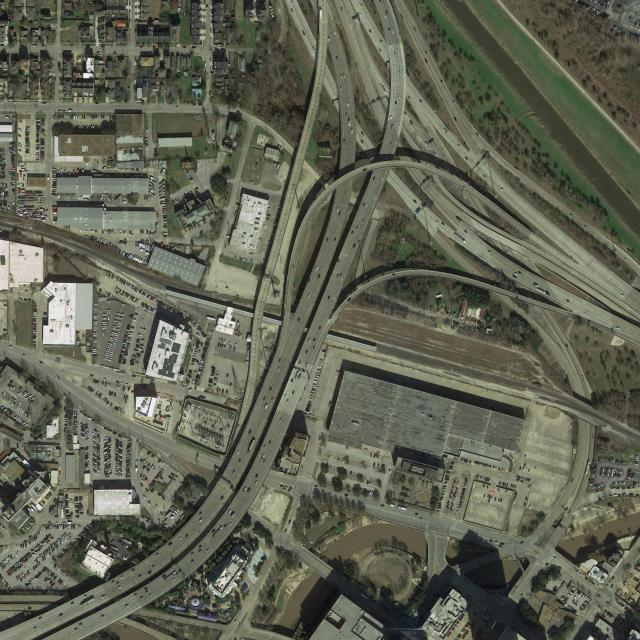large-vehicle: (454, 233, 467, 244), (80, 598, 94, 608), (536, 288, 550, 297), (213, 526, 223, 538), (165, 571, 177, 581), (247, 440, 255, 454), (585, 460, 591, 475), (123, 539, 132, 545), (398, 506, 407, 511), (295, 371, 300, 380), (165, 512, 172, 518), (386, 503, 395, 507), (160, 169, 166, 175), (111, 546, 118, 551), (106, 194, 111, 201), (149, 186, 155, 191), (149, 182, 154, 188), (160, 180, 165, 186), (160, 184, 165, 190), (160, 191, 165, 197), (160, 188, 165, 194), (100, 194, 104, 201), (150, 179, 155, 184), (232, 512, 236, 518), (31, 505, 37, 509), (160, 197, 166, 201), (140, 328, 147, 331), (320, 10, 322, 20), (27, 507, 31, 512), (264, 405, 268, 410), (31, 509, 35, 513), (149, 189, 153, 193), (141, 258, 144, 263), (139, 258, 142, 263), (137, 257, 140, 262), (135, 256, 138, 261), (134, 255, 137, 260), (23, 176, 25, 182), (58, 193, 60, 199), (146, 252, 150, 255), (47, 175, 49, 180), (161, 204, 166, 206), (139, 244, 141, 248), (144, 243, 145, 248), (142, 244, 143, 248)
small-vehicle: (347, 297, 352, 302), (453, 116, 457, 121), (234, 342, 238, 347), (96, 461, 101, 465), (221, 389, 225, 394), (360, 139, 364, 144), (135, 287, 139, 292), (130, 285, 134, 290), (116, 276, 120, 281), (127, 283, 131, 288), (96, 282, 101, 286), (443, 128, 447, 133), (298, 374, 302, 379), (21, 527, 26, 531), (28, 525, 32, 530), (58, 489, 62, 494), (189, 388, 193, 392), (194, 323, 198, 327), (196, 333, 200, 337), (199, 329, 203, 333), (96, 471, 100, 475), (96, 469, 100, 473), (96, 466, 100, 470), (97, 464, 101, 468), (96, 458, 100, 462), (96, 455, 100, 459), (95, 447, 99, 451), (93, 466, 97, 470), (96, 445, 100, 449), (96, 443, 100, 447), (96, 441, 100, 445), (93, 463, 97, 467), (85, 458, 89, 462), (92, 460, 96, 464), (107, 449, 111, 453), (104, 451, 108, 455), (104, 460, 108, 464), (85, 449, 89, 453), (4, 408, 8, 412), (21, 394, 25, 398), (38, 435, 42, 439), (85, 428, 89, 432), (83, 413, 87, 417), (95, 422, 99, 426), (100, 425, 104, 429), (189, 177, 193, 181), (345, 114, 349, 118), (18, 148, 22, 152), (18, 143, 22, 147), (149, 176, 153, 180), (121, 280, 125, 284), (140, 302, 144, 306), (142, 303, 146, 307), (154, 310, 158, 314), (115, 460, 119, 464), (534, 284, 538, 288), (627, 248, 631, 252), (482, 175, 486, 179), (449, 507, 453, 511), (305, 350, 309, 354), (631, 575, 635, 579), (581, 595, 585, 599), (26, 526, 30, 530), (48, 492, 52, 496), (45, 496, 49, 500), (118, 407, 121, 412), (180, 401, 183, 406), (221, 338, 224, 343), (219, 337, 222, 342), (183, 315, 186, 320), (96, 453, 101, 456), (226, 373, 229, 378), (31, 397, 36, 400), (108, 430, 113, 433), (340, 74, 343, 79), (302, 31, 305, 36), (333, 30, 336, 35), (360, 3, 363, 8), (313, 47, 316, 52), (137, 288, 140, 293), (153, 297, 156, 302), (115, 286, 118, 291), (144, 303, 147, 308), (148, 306, 151, 311), (153, 309, 156, 314), (512, 275, 517, 278), (306, 362, 309, 367), (308, 279, 311, 284), (278, 367, 281, 372), (278, 358, 281, 363), (329, 402, 332, 407), (500, 542, 505, 545), (316, 267, 319, 272), (69, 499, 72, 504), (42, 500, 45, 505), (100, 394, 103, 398), (116, 407, 119, 411), (110, 403, 113, 407), (108, 402, 111, 406), (105, 399, 108, 403), (103, 397, 106, 401), (98, 393, 102, 396), (96, 392, 99, 396), (92, 390, 95, 394), (91, 388, 94, 392), (89, 387, 92, 391), (87, 386, 90, 390), (239, 335, 242, 339), (235, 332, 238, 336), (93, 379, 96, 383), (233, 347, 236, 351), (103, 378, 107, 381), (116, 371, 120, 374), (121, 382, 125, 385), (125, 383, 129, 386), (95, 380, 98, 384), (194, 371, 198, 374), (217, 343, 220, 347), (190, 319, 193, 323), (196, 325, 199, 329), (205, 335, 208, 339), (193, 353, 197, 356), (110, 337, 114, 340), (109, 351, 113, 354), (118, 321, 122, 324), (119, 317, 123, 320), (115, 316, 119, 319), (130, 364, 134, 367), (139, 348, 143, 351), (140, 344, 144, 347), (126, 329, 130, 332), (96, 451, 100, 454), (96, 438, 100, 441), (97, 436, 101, 439), (96, 433, 100, 436), (225, 390, 228, 394), (229, 382, 232, 386), (85, 456, 89, 459), (85, 461, 89, 464), (85, 468, 89, 471), (92, 433, 96, 436), (93, 438, 97, 441), (93, 451, 97, 454), (92, 453, 96, 456), (108, 437, 111, 441), (108, 456, 112, 459), (107, 452, 111, 455), (108, 442, 111, 446), (108, 440, 112, 443), (115, 441, 119, 444), (115, 448, 119, 451), (115, 451, 119, 454), (115, 453, 119, 456), (108, 458, 111, 462), (105, 437, 109, 440), (104, 463, 108, 466), (104, 440, 108, 443), (104, 447, 108, 450), (104, 458, 108, 461), (104, 468, 108, 471), (105, 474, 109, 477), (108, 470, 112, 473), (14, 416, 18, 419), (17, 419, 21, 422), (19, 420, 23, 423), (24, 424, 28, 427), (31, 433, 35, 436), (85, 446, 88, 450), (29, 395, 33, 398), (25, 393, 29, 396), (24, 391, 28, 394), (25, 397, 29, 400), (19, 393, 23, 396), (18, 392, 22, 395), (11, 387, 15, 390), (34, 436, 37, 440), (36, 437, 40, 440), (84, 424, 88, 427), (122, 437, 126, 440), (80, 422, 84, 425), (81, 428, 85, 431), (81, 431, 85, 434), (81, 436, 85, 439), (84, 426, 88, 429), (85, 433, 89, 436), (85, 436, 89, 439), (58, 481, 61, 485), (113, 432, 117, 435), (104, 427, 108, 430), (74, 418, 78, 421), (74, 422, 78, 425), (88, 417, 92, 420), (58, 115, 61, 119), (188, 175, 192, 178), (190, 179, 194, 182), (11, 169, 15, 172), (361, 131, 364, 135), (343, 139, 346, 143), (343, 74, 346, 78), (291, 1, 294, 5), (359, 12, 362, 16), (18, 145, 21, 149), (18, 121, 22, 124), (175, 106, 179, 109), (157, 92, 160, 96), (12, 175, 16, 178), (12, 182, 16, 185), (151, 297, 154, 301), (140, 291, 143, 295), (148, 295, 151, 299), (150, 296, 153, 300), (117, 288, 120, 292), (122, 290, 125, 294), (125, 292, 128, 296), (128, 294, 131, 298), (130, 295, 133, 299), (132, 286, 135, 290), (133, 297, 136, 301), (91, 235, 94, 239), (108, 274, 111, 278), (111, 275, 114, 279), (115, 276, 118, 280), (119, 278, 122, 282), (123, 280, 126, 284), (126, 282, 129, 286), (131, 296, 134, 300), (135, 298, 138, 302), (137, 299, 140, 303), (120, 294, 124, 297), (146, 305, 149, 309), (132, 301, 136, 304), (95, 285, 99, 288), (106, 292, 109, 296), (108, 293, 111, 297), (121, 303, 125, 306), (17, 173, 19, 179), (104, 240, 107, 244), (102, 239, 105, 243), (100, 238, 103, 242), (119, 240, 122, 244), (122, 240, 125, 244), (115, 463, 119, 466), (519, 271, 522, 275), (616, 327, 620, 330), (488, 251, 492, 254), (413, 200, 417, 203), (436, 221, 439, 225), (475, 133, 479, 136), (457, 144, 460, 148), (462, 186, 466, 189), (457, 481, 460, 485), (565, 343, 568, 347), (449, 469, 453, 472), (445, 478, 449, 481), (443, 485, 447, 488), (453, 479, 456, 483), (115, 468, 119, 471), (292, 390, 295, 394), (284, 394, 287, 398), (269, 388, 272, 392), (263, 397, 266, 401), (318, 365, 322, 368), (315, 377, 319, 380), (314, 380, 318, 383), (312, 386, 316, 389), (336, 273, 339, 277), (242, 258, 245, 262), (245, 258, 248, 262), (250, 259, 253, 263), (318, 275, 321, 279), (328, 295, 331, 299), (308, 339, 311, 343), (313, 338, 316, 342), (313, 345, 316, 349), (311, 390, 315, 393), (381, 504, 385, 507), (425, 59, 428, 63), (591, 7, 594, 11), (593, 8, 596, 12), (308, 401, 312, 404), (281, 456, 284, 460), (463, 485, 467, 488), (634, 568, 637, 572), (618, 581, 621, 585), (590, 479, 594, 482), (611, 584, 614, 588), (622, 614, 625, 618), (558, 566, 562, 569), (545, 563, 549, 566), (499, 545, 503, 548), (520, 541, 524, 544), (522, 467, 525, 471), (560, 597, 564, 600), (575, 589, 578, 593), (579, 593, 583, 596), (498, 498, 501, 502), (460, 495, 464, 498), (635, 459, 639, 462), (337, 259, 340, 263), (39, 530, 42, 534), (146, 517, 149, 521), (146, 519, 150, 522), (160, 512, 163, 516), (125, 545, 128, 549), (121, 543, 125, 546), (47, 494, 50, 498), (33, 537, 36, 541), (54, 556, 57, 560), (51, 549, 54, 553), (65, 546, 69, 549), (77, 536, 81, 539), (74, 539, 78, 542), (144, 516, 147, 520), (238, 332, 240, 337), (123, 386, 125, 391), (109, 391, 111, 396), (210, 375, 215, 377), (192, 380, 194, 385), (200, 398, 205, 400), (217, 387, 219, 392), (129, 316, 134, 318), (17, 444, 19, 449), (11, 167, 16, 169), (144, 138, 149, 140), (109, 115, 111, 120), (86, 162, 88, 167), (347, 102, 349, 107), (351, 129, 353, 134), (336, 56, 338, 61), (13, 288, 15, 293), (20, 173, 22, 178), (308, 294, 310, 299), (621, 481, 623, 486), (73, 524, 75, 529), (64, 498, 69, 500), (16, 553, 18, 558), (114, 406, 117, 409), (106, 401, 109, 404), (40, 361, 43, 364), (198, 370, 201, 373), (187, 378, 190, 381), (195, 348, 198, 351), (158, 405, 161, 408), (23, 354, 26, 357), (112, 331, 115, 334), (110, 339, 113, 342), (113, 340, 116, 343), (113, 342, 116, 345), (132, 356, 135, 359), (135, 313, 138, 316), (133, 319, 136, 322), (131, 326, 134, 329), (97, 431, 100, 434), (94, 472, 97, 475), (94, 436, 97, 439), (85, 463, 88, 466), (85, 466, 88, 469), (94, 431, 97, 434), (94, 441, 97, 444), (93, 446, 96, 449), (94, 449, 97, 452), (93, 456, 96, 459), (93, 458, 96, 461), (108, 454, 111, 457), (108, 447, 111, 450), (108, 445, 111, 448), (116, 439, 119, 442), (108, 461, 111, 464), (116, 444, 119, 447), (116, 446, 119, 449), (104, 454, 107, 457), (108, 466, 111, 469), (105, 472, 108, 475), (106, 476, 109, 479), (109, 472, 112, 475), (108, 468, 111, 471), (85, 454, 88, 457), (1, 406, 4, 409), (16, 417, 19, 420), (21, 421, 24, 424), (23, 422, 26, 425), (9, 386, 12, 389), (81, 426, 84, 429), (85, 431, 88, 434), (86, 437, 89, 440), (118, 434, 121, 437), (465, 157, 468, 160), (18, 134, 21, 137), (19, 129, 22, 132), (139, 290, 142, 293), (142, 292, 145, 295), (106, 273, 109, 276), (56, 376, 59, 379), (116, 291, 119, 294), (12, 186, 15, 189), (115, 465, 118, 468), (584, 225, 587, 228), (621, 294, 624, 297), (567, 300, 570, 303), (464, 230, 467, 233), (515, 273, 518, 276), (461, 316, 464, 319), (468, 318, 471, 321), (472, 319, 475, 322), (620, 29, 623, 32), (616, 27, 619, 30), (607, 2, 610, 5), (441, 148, 444, 151), (500, 188, 503, 191), (608, 16, 611, 19), (447, 503, 450, 506), (446, 506, 449, 509), (456, 484, 459, 487), (455, 487, 458, 490), (465, 478, 468, 481), (465, 480, 468, 483), (449, 495, 452, 498), (442, 491, 445, 494), (446, 475, 449, 478), (438, 504, 441, 507), (598, 11, 601, 14), (291, 379, 294, 382), (279, 468, 282, 471), (415, 513, 418, 516), (379, 49, 382, 52), (281, 468, 284, 471), (576, 570, 579, 573), (579, 573, 582, 576), (630, 574, 633, 577), (633, 577, 636, 580), (598, 594, 601, 597), (457, 637, 460, 640), (461, 631, 464, 634), (470, 619, 473, 622), (613, 616, 616, 619), (623, 606, 626, 609), (606, 584, 609, 587), (584, 602, 587, 605), (521, 594, 524, 597), (562, 595, 565, 598), (570, 592, 573, 595), (575, 597, 578, 600), (564, 600, 567, 603), (567, 606, 570, 609), (569, 607, 572, 610), (561, 621, 564, 624), (460, 501, 463, 504), (457, 510, 460, 513), (635, 463, 638, 466), (35, 536, 38, 539), (61, 551, 64, 554), (30, 540, 33, 543), (112, 404, 114, 408), (120, 373, 124, 375), (126, 387, 128, 391), (116, 385, 118, 389), (123, 398, 125, 402), (105, 382, 107, 386), (102, 381, 104, 385), (111, 392, 113, 396), (230, 346, 232, 350), (215, 375, 219, 377), (209, 383, 213, 385), (199, 365, 203, 367), (179, 400, 181, 404), (176, 400, 178, 404), (14, 371, 16, 375), (17, 374, 19, 378), (229, 341, 231, 345), (192, 320, 194, 324), (220, 343, 222, 347), (201, 343, 203, 347), (93, 339, 97, 341), (116, 329, 120, 331), (112, 328, 116, 330), (114, 337, 118, 339), (114, 339, 118, 341), (109, 354, 113, 356), (120, 314, 124, 316), (126, 346, 130, 348), (142, 371, 146, 373), (135, 360, 139, 362), (132, 355, 136, 357), (123, 339, 127, 341), (123, 341, 127, 343), (121, 348, 125, 350), (123, 357, 127, 359), (125, 348, 129, 350), (135, 347, 139, 349), (108, 343, 112, 345), (105, 354, 109, 356), (138, 334, 142, 336), (128, 338, 132, 340), (19, 375, 21, 379), (27, 381, 29, 385), (32, 385, 34, 389), (115, 458, 119, 460), (104, 456, 108, 458), (104, 466, 108, 468), (104, 470, 108, 472), (17, 406, 19, 410), (20, 408, 22, 412), (22, 409, 24, 413), (27, 413, 29, 417), (19, 402, 21, 406), (33, 385, 35, 389), (40, 390, 42, 394), (42, 391, 44, 395), (8, 399, 10, 403), (43, 434, 45, 438), (59, 465, 61, 469), (22, 446, 24, 450), (24, 447, 26, 451), (26, 449, 28, 453), (27, 451, 29, 455), (64, 394, 66, 398), (73, 412, 77, 414), (73, 414, 77, 416), (93, 341, 97, 343), (93, 335, 97, 337), (64, 115, 66, 119), (36, 155, 40, 157), (36, 153, 40, 155), (36, 149, 40, 151), (36, 147, 40, 149), (36, 145, 40, 147), (62, 114, 64, 118), (66, 115, 68, 119), (68, 115, 70, 119), (78, 115, 80, 119), (36, 157, 40, 159), (36, 123, 40, 125), (41, 155, 45, 157), (40, 149, 44, 151), (40, 151, 44, 153), (87, 115, 89, 119), (217, 195, 219, 199), (233, 212, 235, 216), (11, 150, 15, 152), (12, 152, 16, 154), (144, 141, 148, 143), (9, 172, 11, 176), (144, 144, 148, 146), (93, 115, 95, 119), (96, 125, 98, 129), (107, 115, 109, 119), (90, 125, 92, 129), (81, 125, 83, 129), (102, 167, 106, 169), (340, 87, 342, 91), (113, 52, 117, 54), (341, 7, 343, 11), (328, 37, 330, 41), (26, 127, 30, 129), (26, 129, 30, 131), (36, 119, 40, 121), (178, 8, 180, 12), (280, 145, 282, 149), (69, 110, 73, 112), (58, 110, 62, 112), (13, 102, 17, 104), (12, 180, 16, 182), (144, 292, 146, 296), (147, 294, 149, 298), (119, 289, 121, 293), (127, 293, 129, 297), (146, 229, 148, 233), (93, 236, 95, 240), (69, 172, 71, 176), (12, 185, 16, 187), (94, 303, 98, 305), (93, 329, 97, 331), (102, 297, 104, 301), (142, 229, 144, 233), (140, 229, 142, 233), (135, 242, 137, 246), (52, 178, 56, 180), (53, 182, 57, 184), (52, 188, 56, 190), (64, 169, 66, 173), (52, 174, 56, 176), (83, 199, 87, 201), (80, 230, 84, 232), (6, 187, 8, 191), (4, 187, 6, 191), (52, 169, 56, 171), (0, 196, 2, 200), (24, 171, 28, 173), (157, 213, 159, 217), (163, 209, 167, 211), (163, 213, 167, 215), (163, 217, 167, 219), (163, 227, 167, 229), (114, 229, 116, 233), (125, 240, 127, 244), (97, 238, 99, 242), (506, 250, 508, 254), (629, 15, 631, 19), (619, 28, 621, 32), (628, 32, 630, 36), (637, 23, 639, 27), (633, 17, 635, 21), (604, 4, 606, 8), (631, 32, 633, 36), (453, 100, 455, 104), (582, 376, 584, 380), (448, 500, 450, 504), (451, 502, 453, 506), (451, 489, 453, 493), (442, 489, 446, 491), (452, 487, 454, 491), (439, 500, 443, 502), (437, 508, 441, 510), (615, 26, 617, 30), (319, 364, 323, 366), (272, 397, 274, 401), (320, 360, 324, 362), (317, 369, 321, 371), (316, 373, 320, 375), (315, 375, 319, 377), (312, 384, 316, 386), (312, 388, 316, 390), (299, 360, 301, 364), (293, 265, 295, 269), (319, 326, 321, 330), (298, 318, 300, 322), (597, 10, 599, 14), (378, 464, 380, 468), (373, 463, 375, 467), (338, 458, 340, 462), (269, 440, 271, 444), (309, 398, 313, 400), (305, 411, 309, 413), (287, 399, 289, 403), (280, 418, 282, 422), (249, 430, 251, 434), (364, 449, 368, 451), (370, 453, 372, 457), (346, 447, 348, 451), (263, 454, 265, 458), (451, 321, 453, 325), (593, 434, 595, 438), (609, 496, 613, 498), (442, 304, 444, 308), (600, 490, 604, 492), (494, 542, 498, 544), (612, 488, 616, 490), (600, 471, 602, 475), (608, 472, 610, 476), (615, 473, 617, 477), (617, 473, 619, 477), (468, 621, 472, 623), (489, 540, 493, 542), (515, 492, 517, 496), (514, 496, 516, 500), (513, 500, 515, 504), (529, 505, 531, 509), (514, 485, 516, 489), (502, 468, 504, 472), (489, 478, 491, 482), (487, 494, 489, 498), (529, 485, 531, 489), (591, 474, 595, 476), (587, 474, 589, 478), (572, 478, 574, 482), (624, 460, 626, 464), (620, 460, 622, 464), (593, 486, 595, 490), (599, 484, 601, 488), (517, 475, 519, 479), (630, 478, 634, 480), (623, 481, 625, 485), (619, 481, 621, 485), (601, 483, 603, 487), (352, 230, 354, 234), (62, 522, 66, 524), (48, 522, 52, 524), (61, 525, 63, 529), (59, 525, 61, 529), (44, 526, 46, 530), (50, 526, 52, 530), (192, 498, 196, 500), (65, 508, 69, 510), (49, 551, 51, 555), (65, 537, 67, 541), (62, 540, 64, 544), (53, 547, 55, 551), (69, 534, 71, 538), (32, 538, 34, 542), (29, 541, 31, 545), (25, 543, 27, 547), (6, 558, 8, 562), (4, 564, 6, 568), (2, 565, 4, 569), (90, 375, 93, 377), (118, 386, 120, 389), (114, 393, 116, 396), (97, 381, 99, 384), (122, 363, 125, 365), (199, 367, 202, 369), (201, 361, 204, 363), (224, 340, 226, 343), (224, 345, 226, 348), (222, 344, 224, 347), (193, 356, 196, 358), (115, 333, 118, 335), (115, 335, 118, 337), (111, 333, 114, 335), (112, 344, 115, 346), (111, 348, 114, 350), (110, 350, 113, 352), (113, 326, 116, 328), (118, 324, 121, 326), (103, 322, 106, 324), (93, 348, 96, 350), (93, 350, 96, 352), (107, 310, 110, 312), (103, 314, 106, 316), (103, 318, 106, 320), (103, 326, 106, 328), (103, 328, 106, 330), (117, 313, 120, 315), (114, 320, 117, 322), (109, 356, 112, 358), (108, 360, 111, 362), (124, 337, 127, 339), (136, 358, 139, 360), (143, 369, 146, 371), (137, 356, 140, 358), (123, 343, 126, 345), (123, 345, 126, 347), (124, 355, 127, 357), (108, 345, 111, 347), (107, 349, 110, 351), (106, 352, 109, 354), (105, 356, 108, 358), (105, 358, 108, 360), (131, 314, 134, 316), (130, 332, 133, 334), (129, 335, 132, 337), (128, 340, 131, 342), (93, 444, 96, 446), (116, 456, 119, 458), (108, 464, 111, 466), (105, 442, 108, 444), (85, 452, 88, 454), (3, 392, 5, 395), (128, 441, 131, 443), (59, 471, 61, 474), (69, 393, 71, 396), (74, 424, 77, 426), (74, 429, 76, 432), (80, 411, 83, 413), (36, 159, 39, 161), (70, 115, 72, 118), (73, 116, 75, 119), (41, 157, 44, 159), (36, 137, 39, 139), (37, 121, 40, 123), (37, 128, 40, 130), (36, 131, 39, 133), (36, 133, 39, 135), (36, 135, 39, 137), (36, 139, 39, 141), (36, 141, 39, 143), (41, 141, 44, 143), (41, 143, 44, 145), (41, 145, 44, 147), (42, 123, 45, 125), (2, 151, 5, 153), (2, 153, 5, 155), (2, 155, 5, 157), (97, 115, 99, 118), (42, 125, 45, 127), (93, 333, 96, 335), (349, 121, 350, 127), (153, 46, 156, 48), (33, 45, 36, 47), (71, 45, 74, 47), (291, 9, 293, 12), (26, 131, 29, 133), (26, 133, 29, 135), (26, 135, 29, 137), (26, 137, 29, 139), (26, 145, 29, 147), (26, 147, 29, 149), (26, 151, 29, 153), (26, 153, 29, 155), (193, 46, 196, 48), (165, 89, 167, 92), (158, 85, 160, 88), (12, 116, 15, 118), (63, 110, 66, 112), (43, 102, 46, 104), (34, 102, 37, 104), (85, 236, 88, 238), (89, 236, 91, 239), (95, 309, 98, 311), (25, 291, 28, 293), (33, 307, 36, 309), (33, 316, 36, 318), (33, 324, 36, 326), (33, 330, 36, 332), (9, 346, 12, 348), (94, 315, 97, 317), (94, 321, 97, 323), (94, 325, 97, 327), (94, 327, 97, 329), (107, 301, 110, 303), (53, 180, 56, 182), (56, 170, 58, 173), (5, 184, 7, 187), (163, 211, 166, 213), (569, 214, 572, 216), (624, 258, 627, 260), (460, 320, 463, 322), (474, 328, 476, 331), (454, 492, 456, 495), (449, 498, 451, 501), (453, 494, 455, 497), (450, 492, 452, 495), (453, 497, 455, 500), (452, 499, 454, 502), (451, 505, 453, 508), (464, 483, 467, 485), (449, 467, 452, 469), (450, 464, 453, 466), (444, 483, 447, 485), (441, 494, 444, 496), (437, 510, 440, 512), (453, 482, 455, 485), (452, 485, 454, 488), (320, 362, 323, 364), (311, 392, 314, 394), (240, 257, 242, 260), (343, 460, 345, 463), (330, 466, 332, 469), (350, 471, 352, 474), (370, 482, 372, 485), (315, 486, 318, 488), (419, 518, 422, 520), (345, 494, 348, 496), (390, 470, 392, 473), (310, 396, 313, 398), (285, 469, 287, 472), (377, 452, 380, 454), (264, 444, 266, 447), (287, 470, 289, 473), (462, 488, 465, 490), (462, 490, 465, 492), (627, 487, 630, 489), (602, 497, 605, 499), (614, 494, 617, 496), (623, 494, 626, 496), (554, 557, 557, 559), (596, 490, 599, 492), (602, 472, 604, 475), (614, 469, 616, 472), (612, 469, 614, 472), (607, 468, 609, 471), (605, 468, 607, 471), (603, 468, 605, 471), (610, 473, 612, 476), (609, 581, 611, 584), (461, 493, 464, 495), (464, 627, 467, 629), (612, 615, 614, 618), (515, 453, 517, 456), (462, 630, 465, 632), (463, 629, 466, 631), (555, 587, 558, 589), (619, 603, 622, 605), (574, 599, 576, 602), (564, 604, 567, 606), (565, 598, 567, 601), (616, 469, 618, 472), (620, 470, 622, 473), (522, 477, 524, 480), (530, 479, 532, 482), (526, 478, 528, 481), (535, 467, 537, 470), (528, 470, 530, 473), (500, 499, 502, 502), (484, 494, 486, 497), (460, 498, 463, 500), (458, 507, 461, 509), (482, 464, 484, 467), (482, 477, 484, 480), (484, 478, 486, 481), (521, 481, 524, 483), (594, 461, 597, 463), (592, 476, 595, 478), (610, 458, 612, 461), (606, 458, 608, 461), (617, 460, 619, 463), (595, 485, 597, 488), (597, 485, 599, 488), (636, 456, 639, 458), (636, 458, 639, 460), (636, 483, 638, 486), (635, 482, 637, 485), (633, 482, 635, 485), (632, 488, 635, 490), (627, 477, 630, 479), (617, 482, 619, 485), (56, 522, 59, 524), (71, 525, 73, 528), (69, 525, 71, 528), (57, 525, 59, 528), (123, 557, 125, 560), (125, 557, 127, 560), (80, 507, 83, 509), (38, 532, 40, 535), (67, 536, 69, 539), (60, 542, 62, 545), (65, 534, 67, 537), (61, 536, 63, 539), (56, 540, 58, 543), (54, 542, 56, 545), (52, 544, 54, 547), (10, 560, 12, 563), (68, 545, 71, 547), (28, 408, 29, 413), (113, 115, 114, 120), (79, 195, 80, 200), (68, 523, 73, 524), (30, 523, 35, 524), (121, 408, 122, 412), (16, 373, 17, 377), (117, 326, 121, 327), (112, 346, 114, 348), (109, 357, 111, 359), (93, 353, 97, 354), (108, 312, 110, 314), (121, 352, 123, 354), (31, 383, 32, 387), (19, 407, 20, 411), (25, 412, 26, 416), (36, 386, 37, 390), (37, 388, 38, 392), (39, 389, 40, 393), (44, 392, 45, 396), (72, 115, 73, 119), (76, 115, 77, 119), (82, 115, 83, 119), (84, 115, 85, 119), (41, 147, 45, 148), (9, 147, 10, 151), (0, 163, 4, 164), (101, 114, 102, 118), (103, 114, 104, 118), (99, 125, 100, 129), (147, 129, 148, 133), (41, 122, 45, 123), (97, 52, 101, 53), (42, 119, 44, 121), (178, 89, 179, 93), (205, 63, 206, 67), (135, 287, 136, 291), (145, 229, 146, 233), (11, 289, 12, 293), (99, 297, 100, 301), (101, 298, 102, 302), (105, 297, 106, 301), (52, 186, 56, 187), (52, 190, 56, 191), (52, 192, 56, 193), (81, 196, 82, 200), (91, 231, 95, 232), (132, 231, 133, 235), (126, 231, 127, 235), (52, 176, 56, 177), (52, 172, 56, 173), (3, 192, 4, 196), (2, 196, 3, 200), (53, 222, 57, 223), (163, 216, 167, 217), (158, 223, 159, 227), (163, 222, 167, 223), (614, 250, 616, 252), (455, 490, 457, 492), (441, 497, 443, 499), (370, 491, 371, 495), (619, 473, 620, 477), (525, 477, 526, 481), (498, 489, 500, 491), (511, 484, 512, 488), (459, 504, 461, 506), (462, 458, 463, 462), (501, 483, 503, 485), (486, 477, 487, 481), (593, 469, 597, 470), (623, 460, 624, 464), (63, 525, 64, 529), (53, 525, 54, 529), (12, 558, 14, 560), (23, 544, 24, 548), (5, 560, 6, 564), (3, 561, 4, 565), (7, 562, 8, 566), (199, 350, 200, 353), (108, 317, 109, 320), (103, 324, 106, 325), (103, 332, 104, 335), (108, 347, 111, 348), (106, 351, 109, 352), (14, 404, 15, 407), (12, 403, 13, 406), (137, 439, 138, 442), (61, 115, 62, 118), (90, 115, 91, 118), (37, 126, 40, 127), (37, 130, 40, 131), (41, 139, 44, 140), (92, 115, 93, 118), (2, 150, 5, 151), (12, 155, 15, 156), (11, 158, 14, 159), (96, 115, 97, 118), (93, 126, 94, 129), (89, 126, 90, 129), (87, 126, 88, 129), (85, 126, 86, 129), (79, 126, 80, 129), (26, 142, 29, 143), (26, 140, 29, 141), (26, 144, 29, 145), (26, 150, 29, 151), (6, 117, 9, 118), (33, 332, 36, 333), (94, 318, 97, 319), (94, 324, 97, 325), (94, 308, 97, 309), (59, 170, 60, 173), (120, 230, 121, 233), (124, 239, 127, 240), (1, 192, 2, 195), (4, 184, 5, 187), (2, 184, 3, 187), (3, 188, 4, 191), (6, 196, 7, 199), (21, 167, 24, 168), (22, 169, 25, 170), (106, 231, 107, 234), (472, 328, 473, 331), (476, 328, 477, 331), (372, 492, 373, 495), (264, 459, 265, 462), (622, 488, 625, 489), (489, 464, 490, 467), (611, 469, 612, 472), (601, 467, 602, 470), (604, 472, 605, 475), (606, 472, 607, 475), (612, 473, 613, 476), (577, 601, 578, 604), (618, 470, 619, 473), (528, 478, 529, 481), (521, 476, 522, 479), (513, 485, 514, 488), (506, 491, 507, 494), (495, 498, 496, 501), (622, 471, 623, 474), (499, 468, 500, 471), (479, 476, 480, 479), (481, 477, 482, 480), (488, 478, 489, 481), (500, 482, 501, 485), (590, 484, 593, 485), (614, 459, 615, 462), (517, 480, 520, 481), (612, 458, 613, 461), (604, 458, 605, 461), (616, 482, 617, 485), (67, 525, 68, 528), (55, 525, 56, 528), (48, 526, 49, 529), (75, 508, 78, 509), (60, 538, 61, 541), (64, 539, 65, 542), (63, 535, 64, 538), (58, 539, 59, 542), (57, 545, 58, 548), (55, 547, 56, 550), (51, 545, 52, 548), (9, 557, 10, 560), (9, 562, 10, 565), (617, 488, 619, 489), (609, 469, 610, 471), (603, 458, 604, 460), (601, 458, 602, 460)
